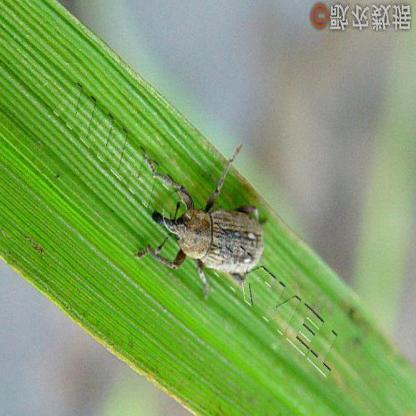rice-bug: (138, 158, 268, 298)
